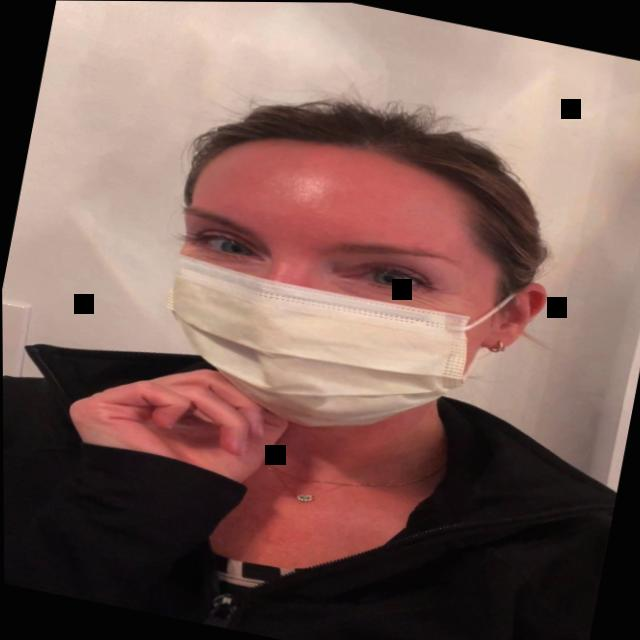Mask: (149, 108, 534, 458)
